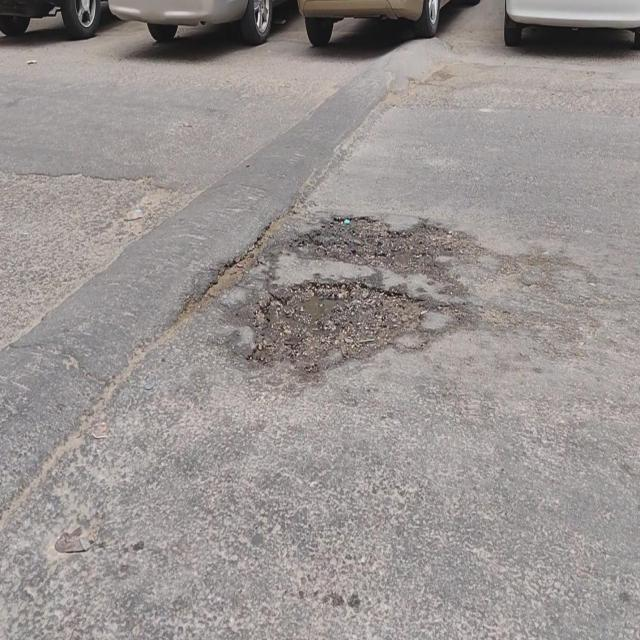Potholes: (254, 279, 424, 368), (308, 213, 462, 275)
